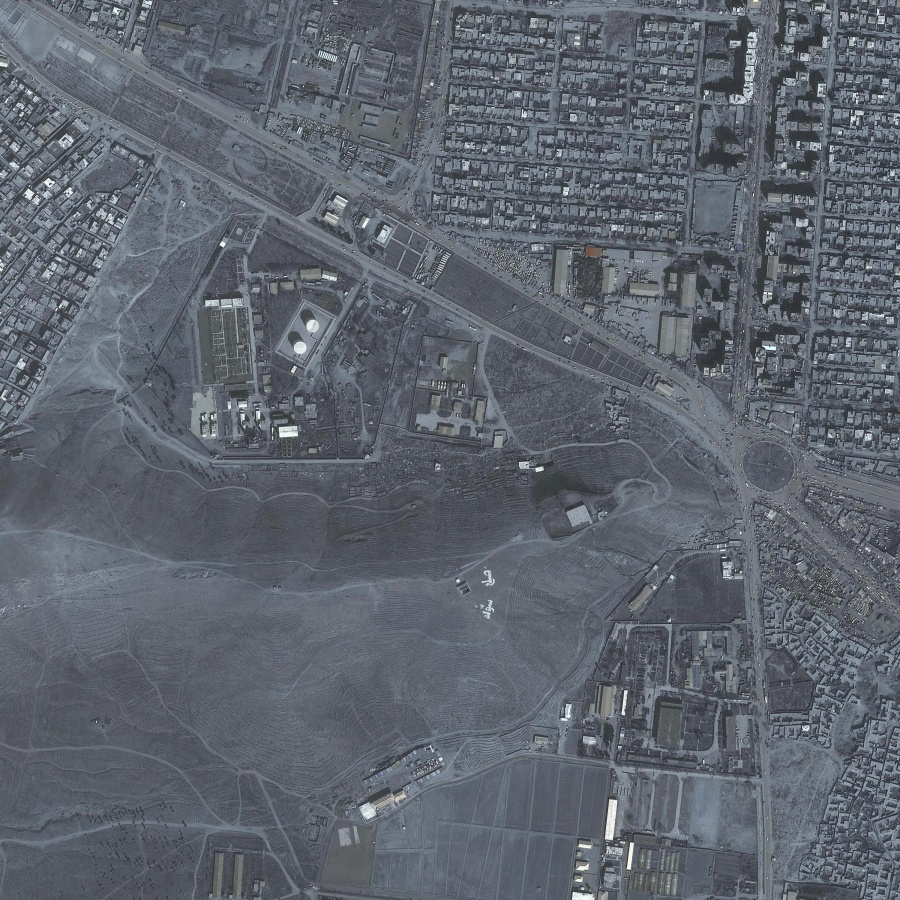PowerPlant: (200, 261, 343, 452)
